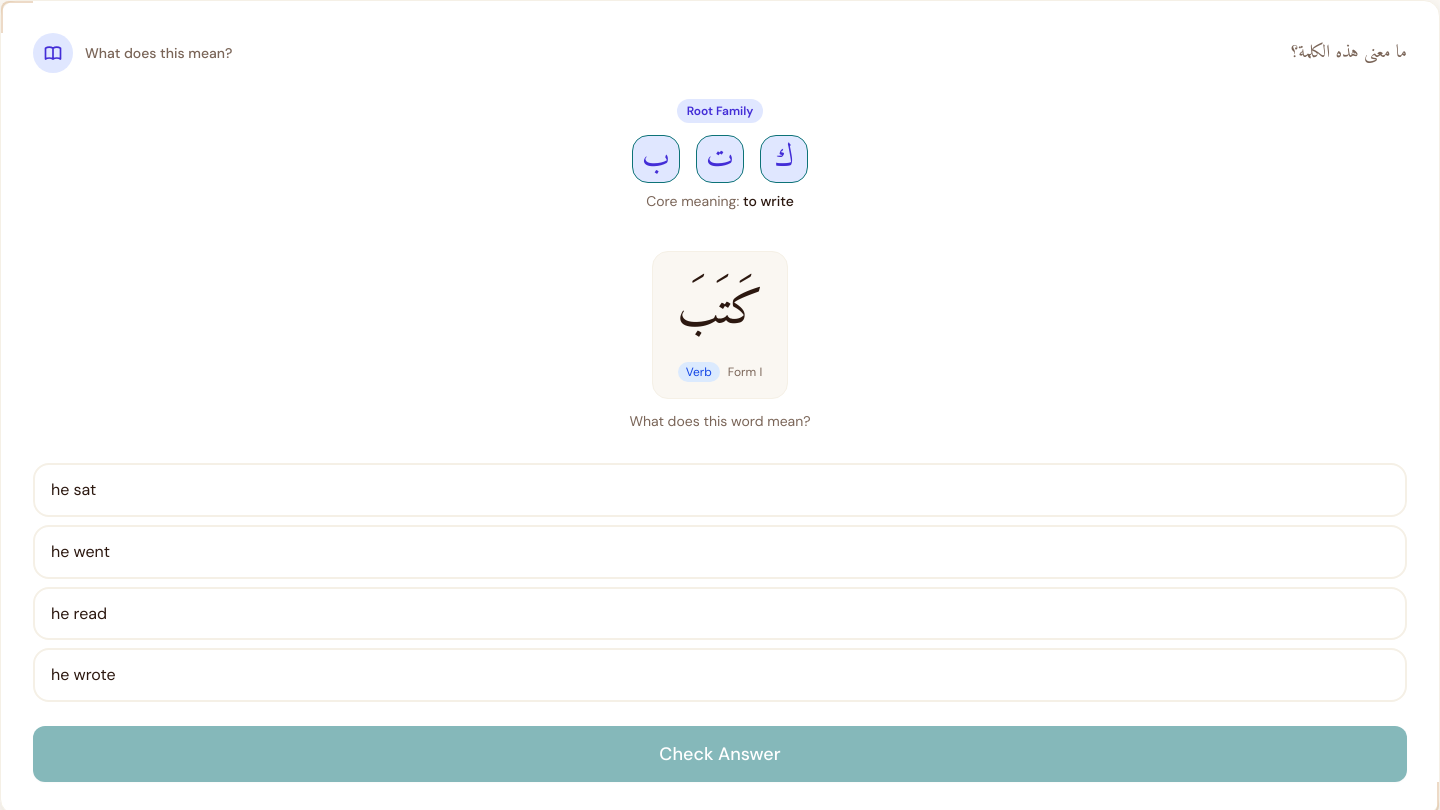
Test: RootFamilyExercise - Related Words › shows related words from family after submission
This screenshot has width=1440, height=810.
# Select and submit
Click the button "he wrote": (83, 675) [33,648,1407,702]
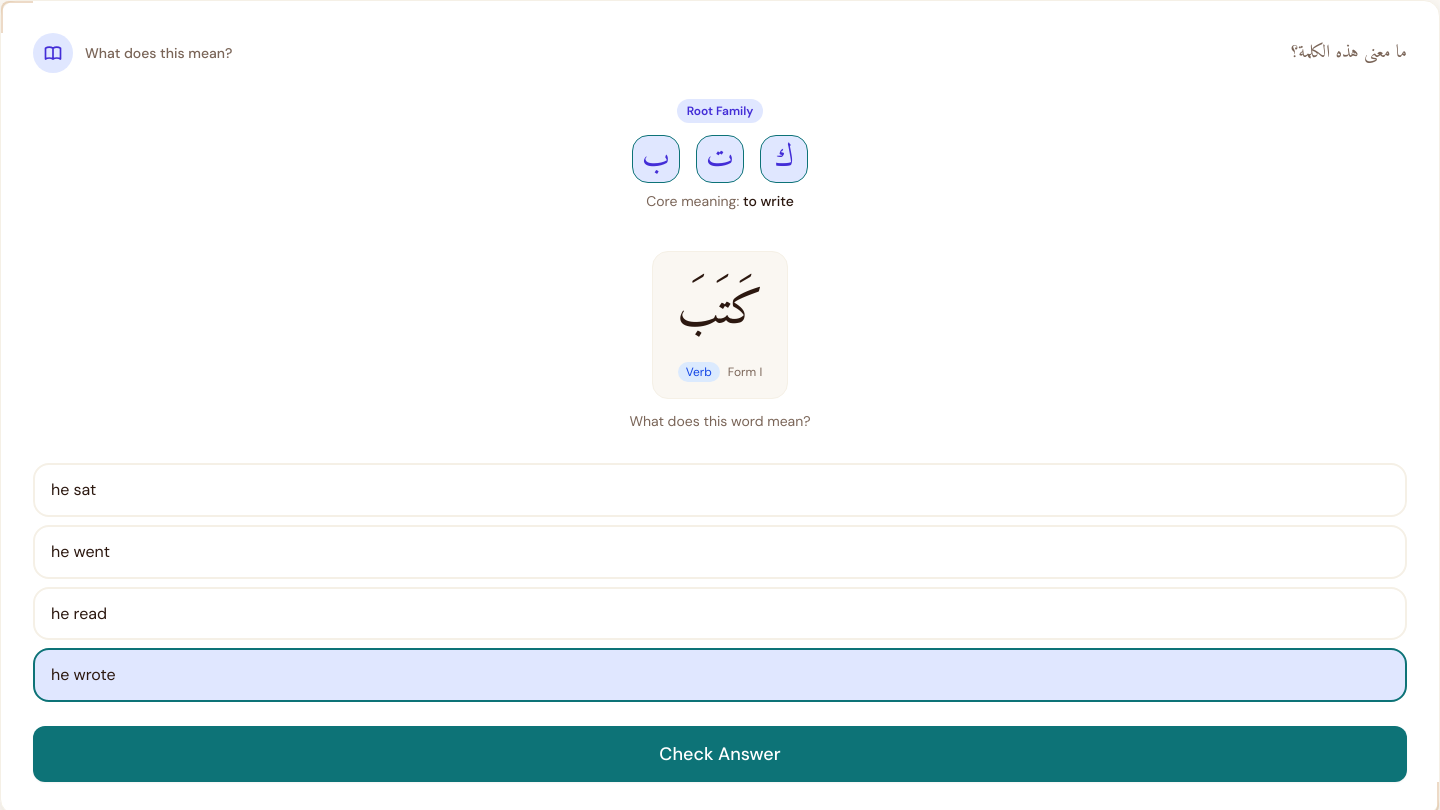
Click the button "Check Answer": (720, 754) [33,726,1407,782]
(page scrolled)
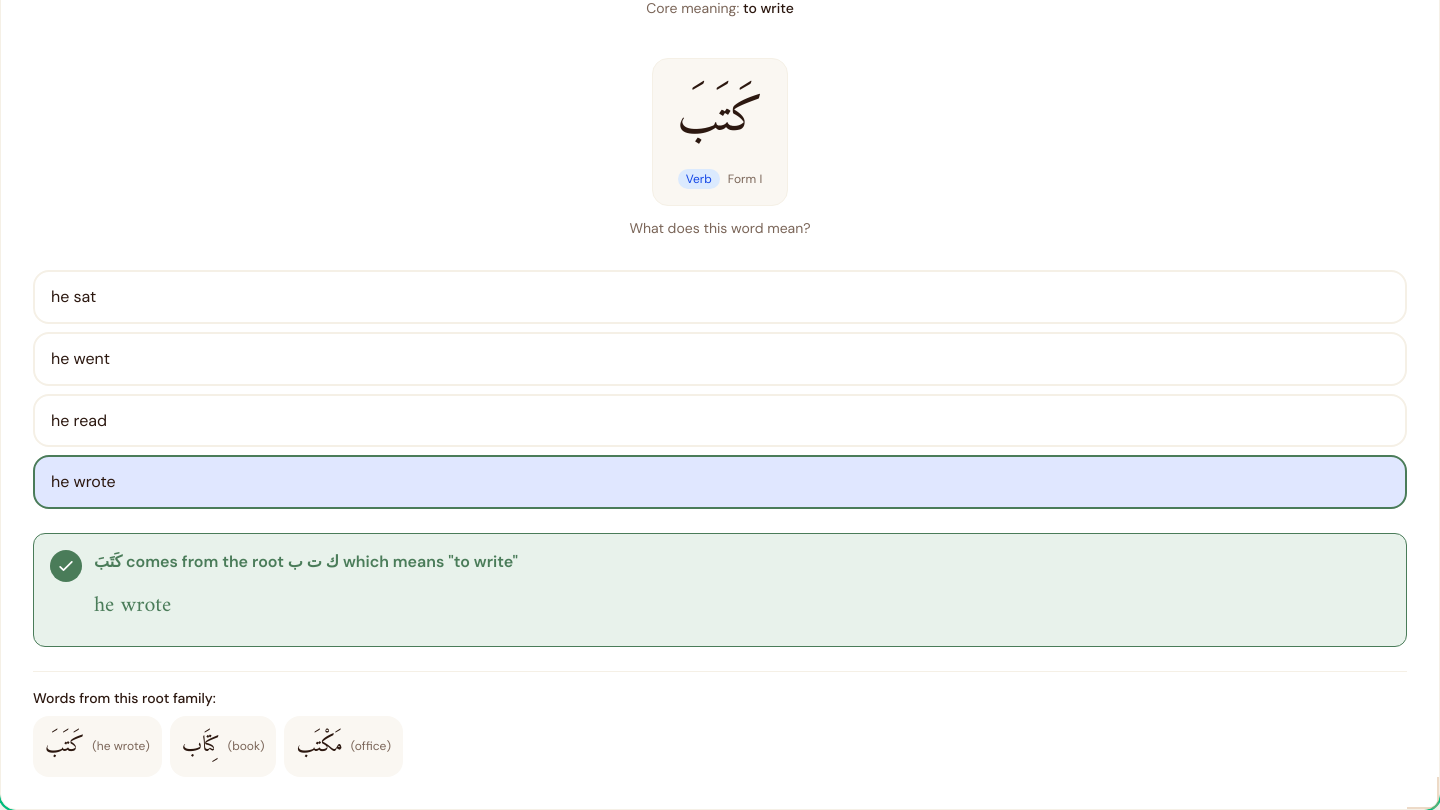
Check: the text "Words from this root family:" is shown, box [33,689,216,707]
Check: the text "كِتَاب" is shown, box [182,722,220,771]
Check: the text "(book)" is shown, box [228,738,264,754]
